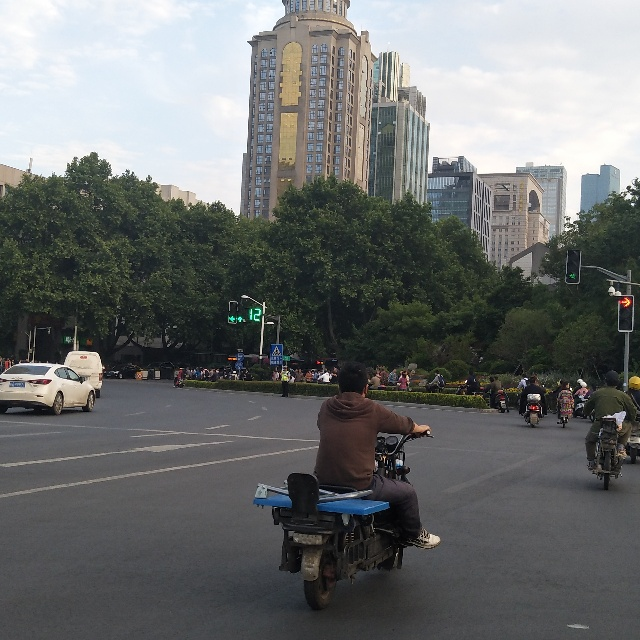crosswalk: (269, 344, 284, 365)
